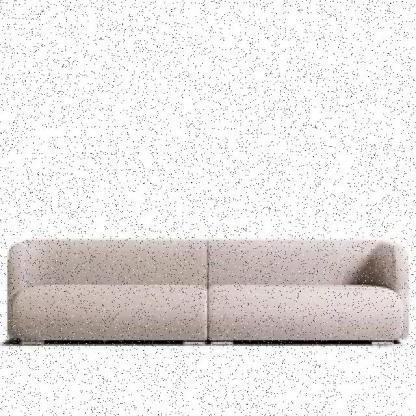Sofa: (2, 222, 408, 354)
